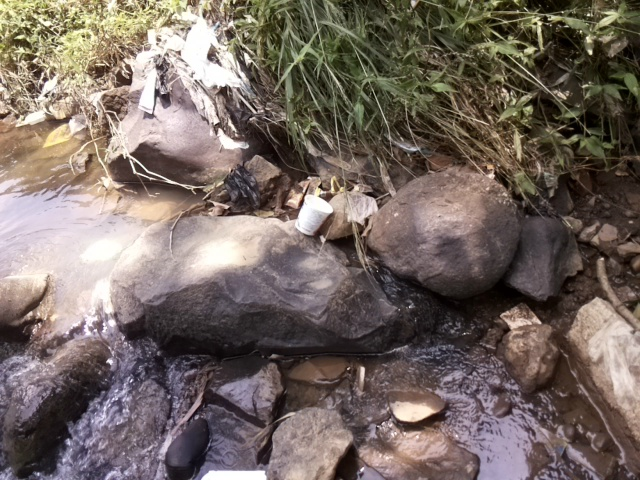Sampah_Styrofoam: (291, 192, 335, 243)
